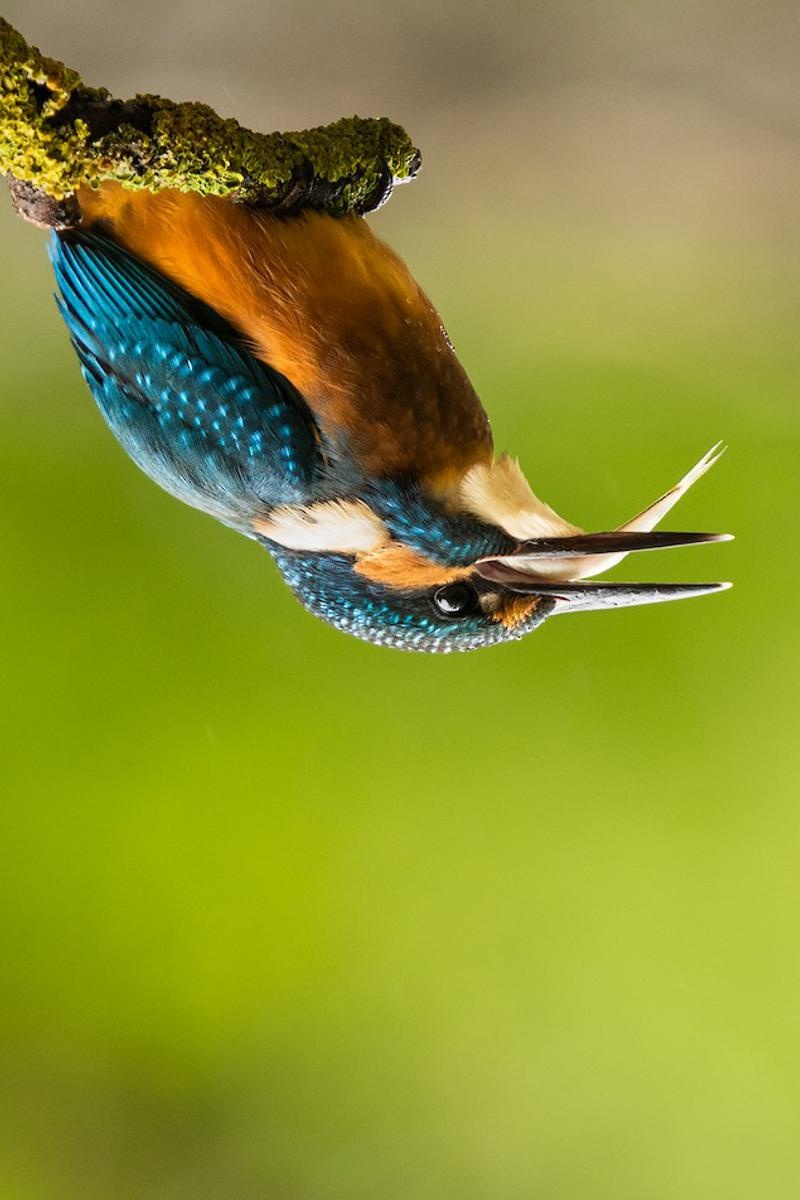kingfisher: (47, 108, 751, 707)
